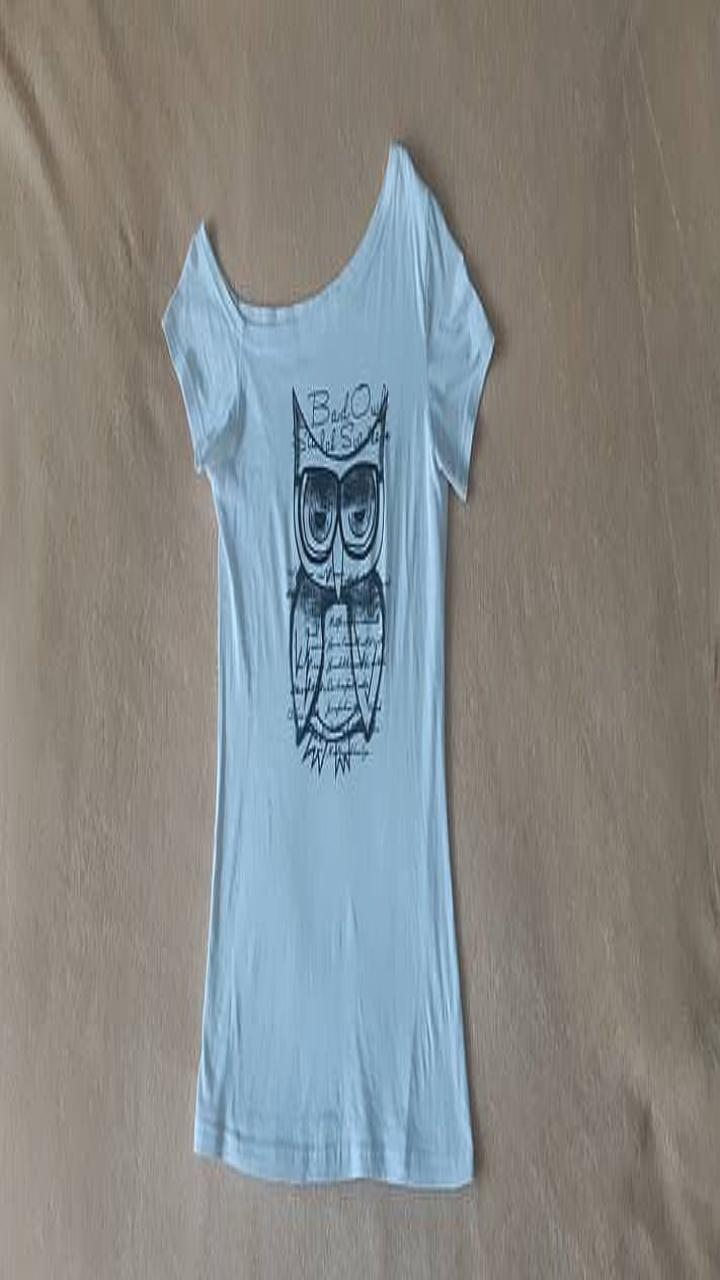T-Shirt: (162, 141, 493, 1187)
